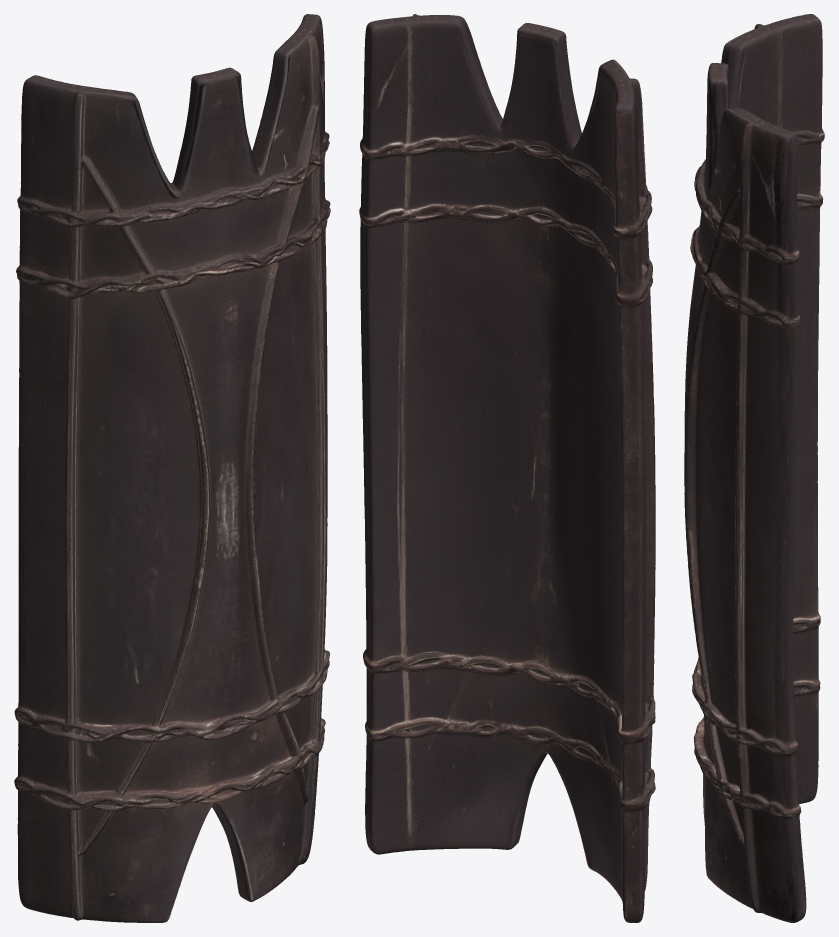
File: mt.province.glb
3 views of the same model, side by side, from view 1: azimuth 30°, elevation 25°; view 2: azimuth 150°, elevation 25°; view 3: azimuth 270°, elevation 25° (orthographic). The views are drawn at different scales.
Bounding box in the file's own units: 0.7175 × 1.9 × 0.3048.
Materials: 1 (1 with a texture image).
